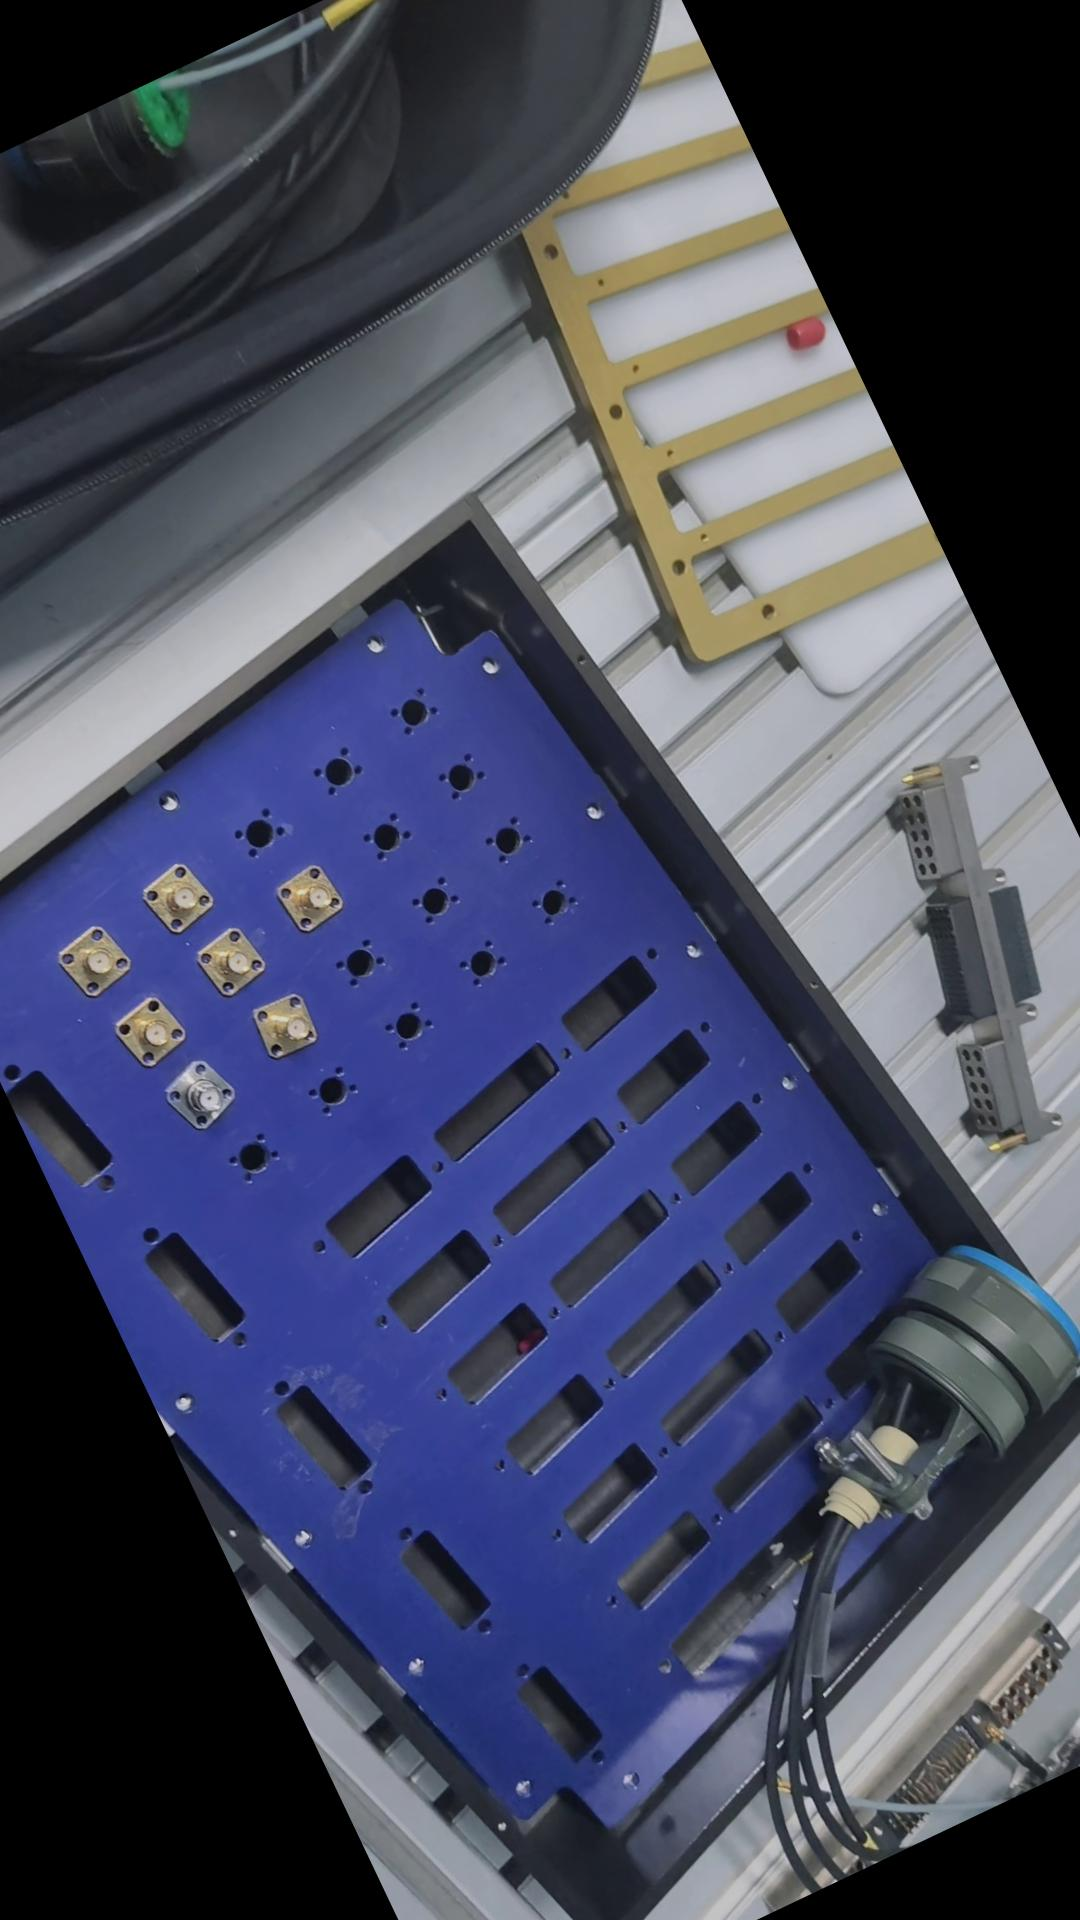SMA: (156, 1044, 249, 1139), (109, 982, 200, 1071), (51, 916, 138, 1005), (189, 916, 277, 1004), (248, 981, 334, 1065), (140, 855, 223, 938), (273, 858, 356, 939)
